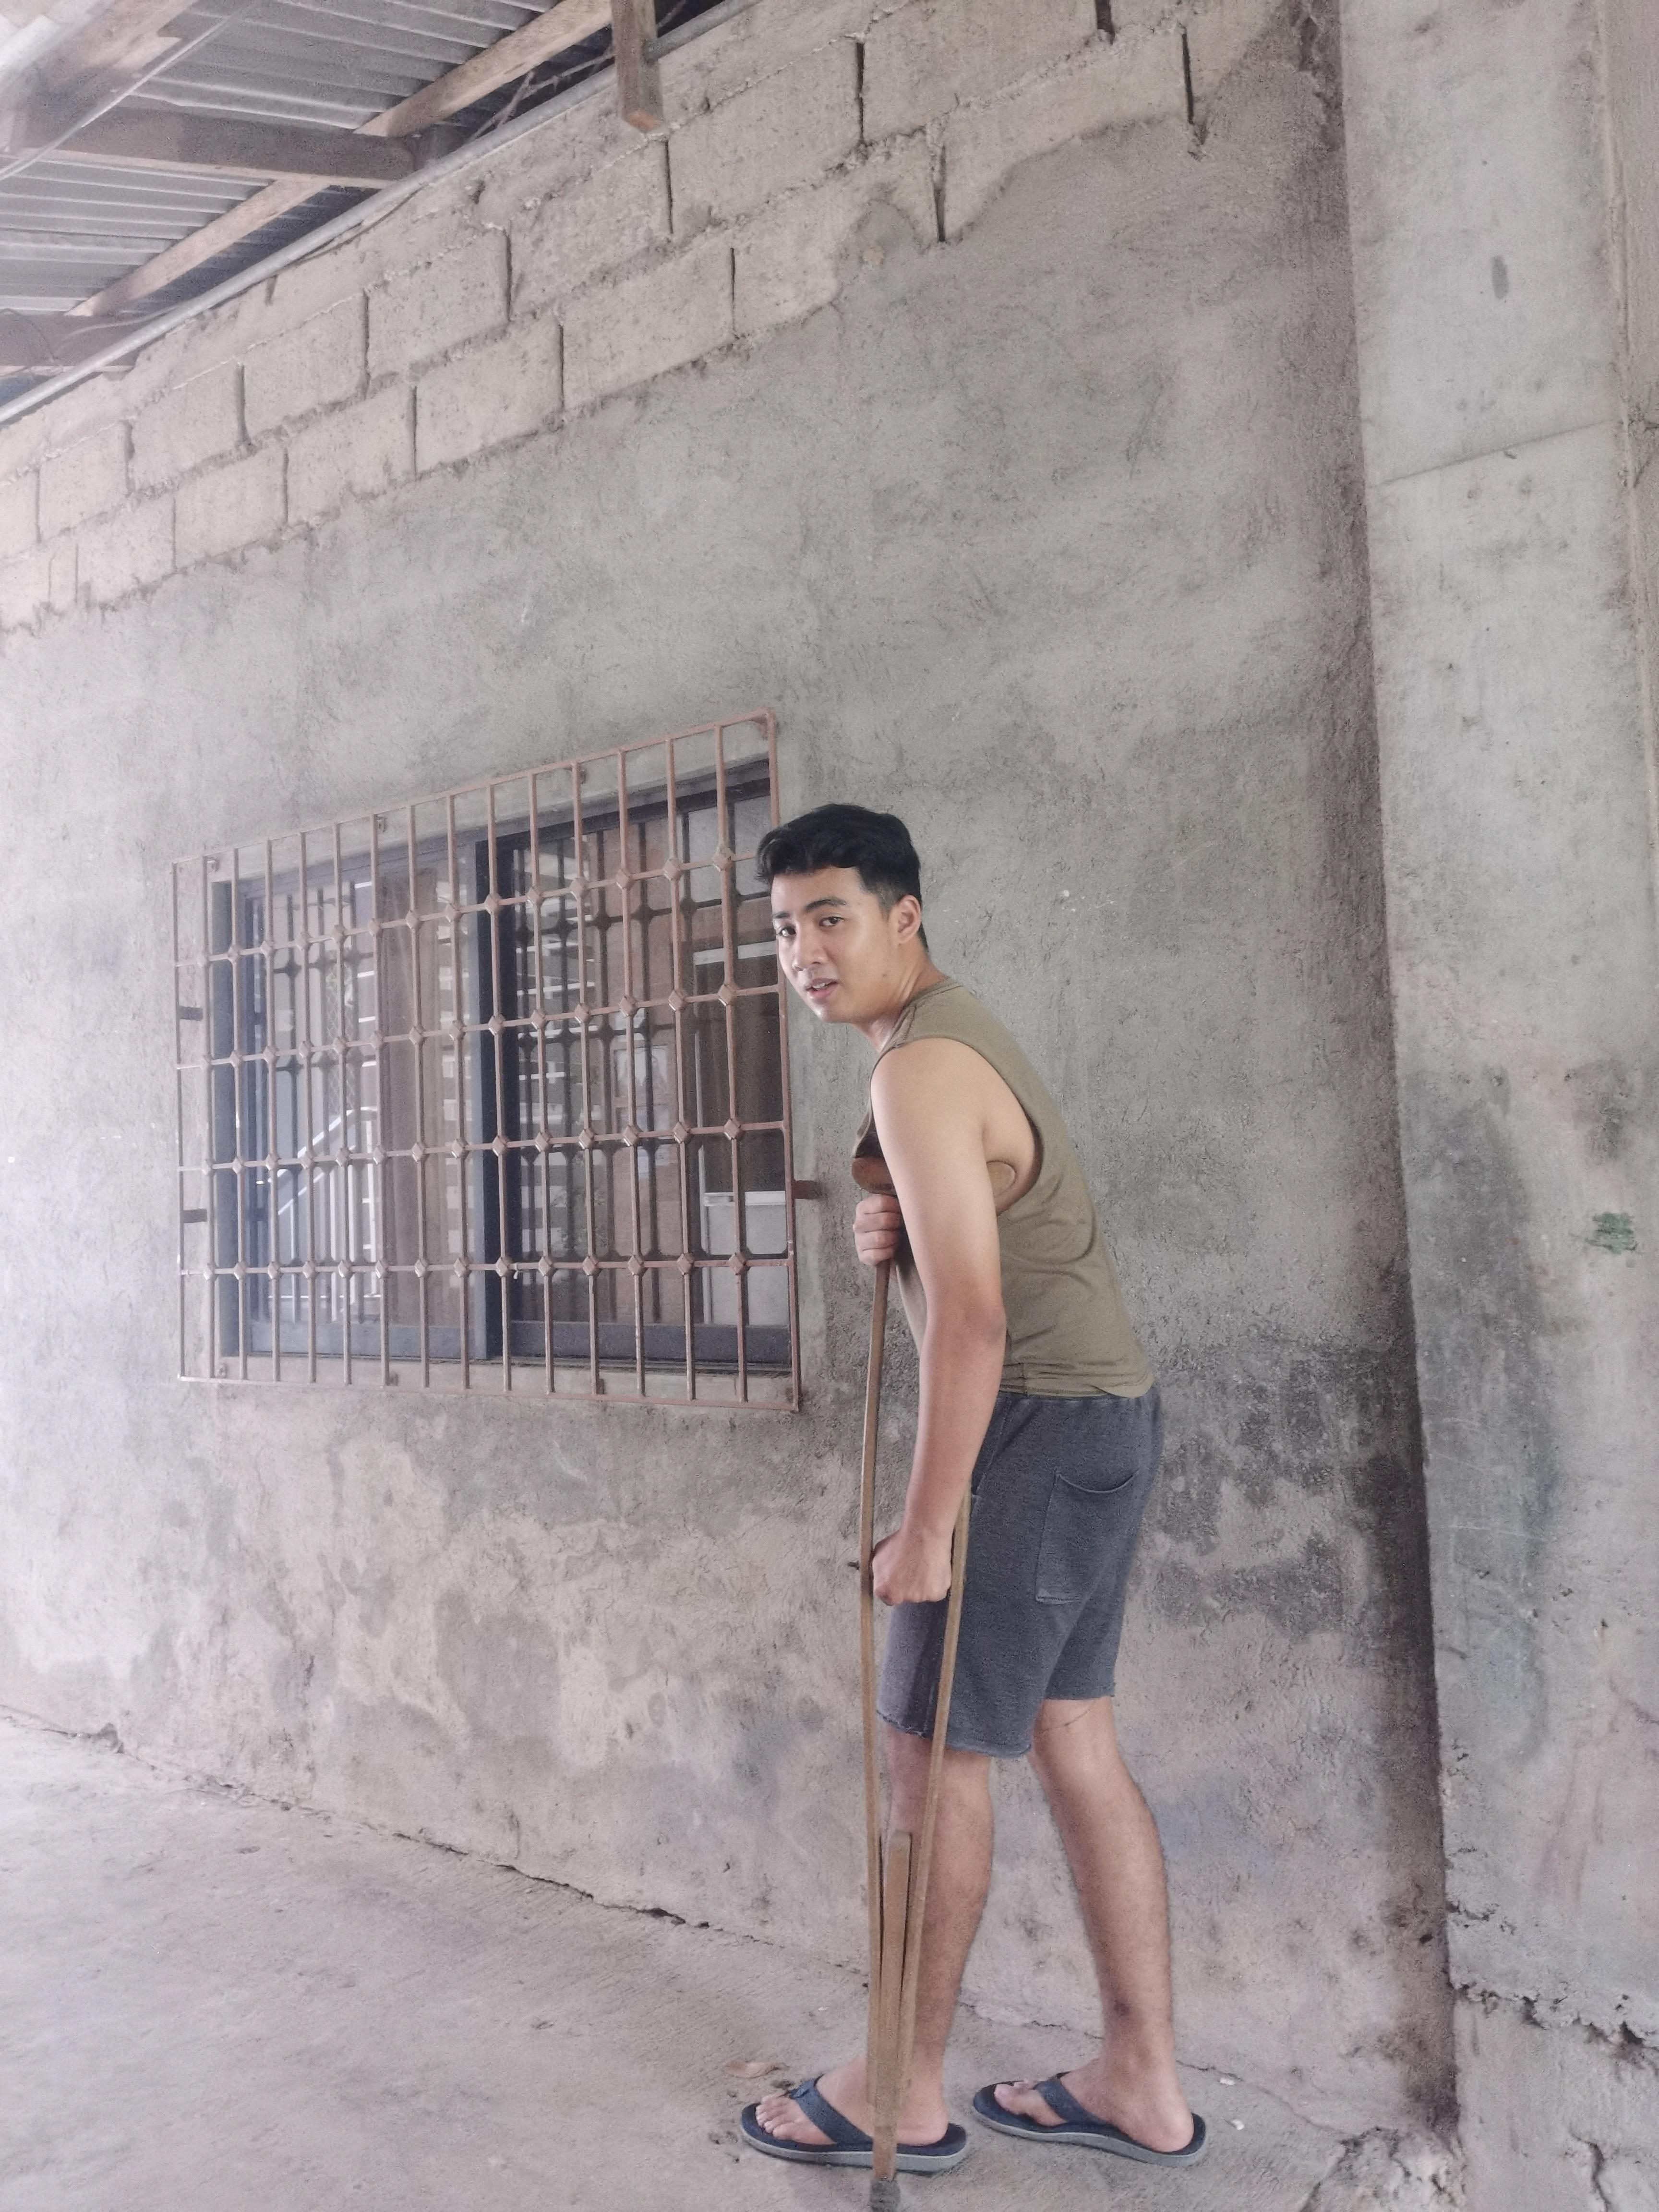crutches: (744, 805, 1209, 2212)
